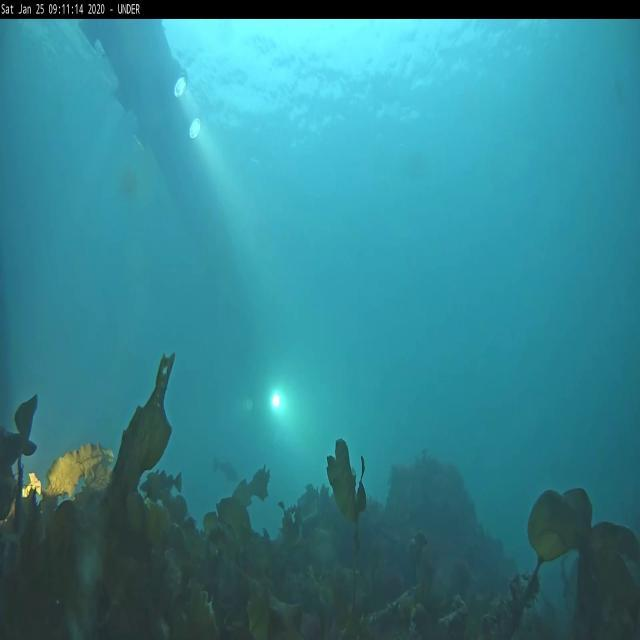fish: (140, 471, 187, 494), (212, 458, 240, 483)
